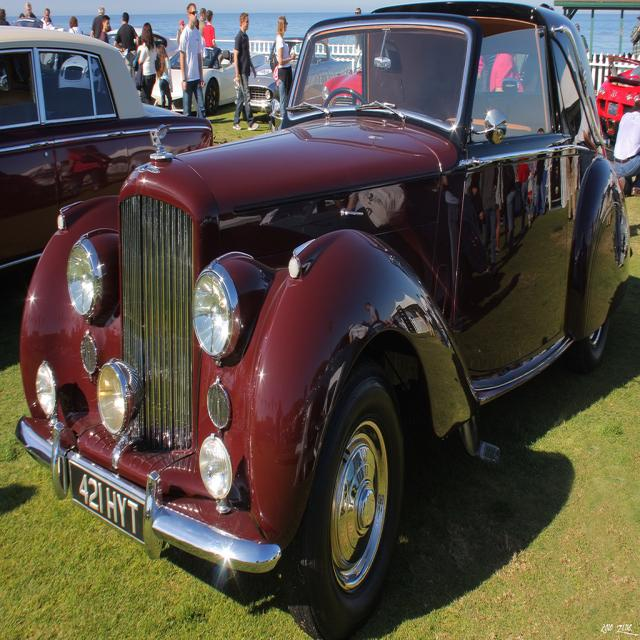car: (21, 22, 625, 614)
